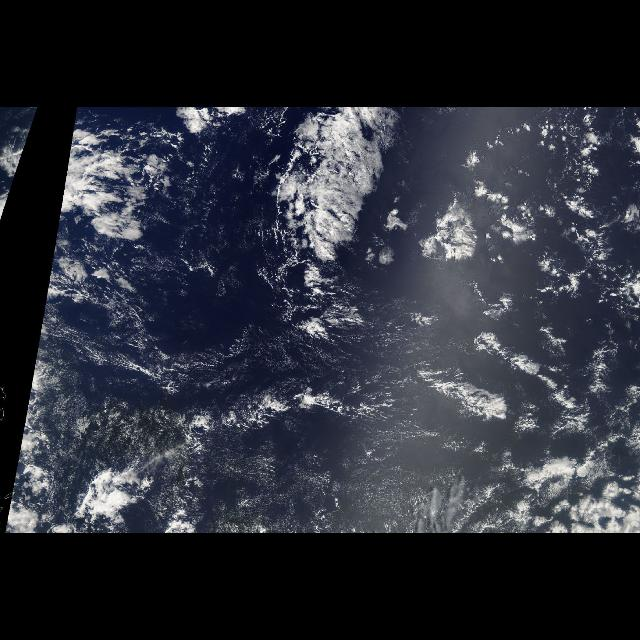Fish: (210, 107, 414, 373)
Sugar: (32, 256, 466, 534)
